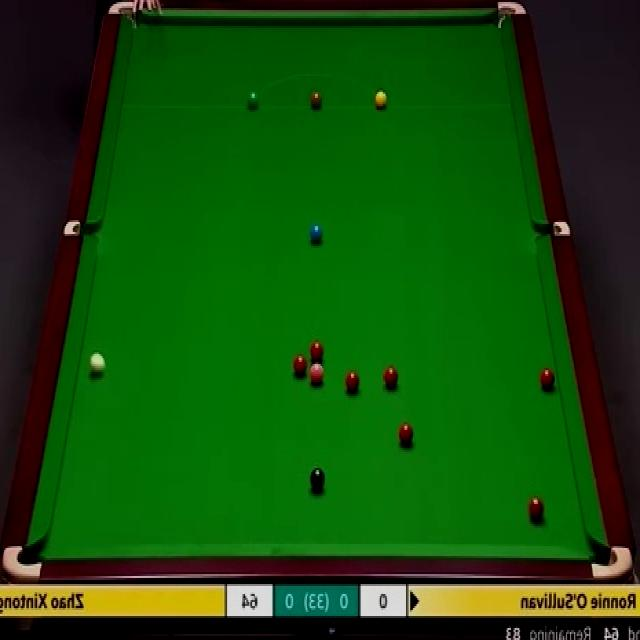black-ball: (308, 467, 324, 490)
blue-ball: (309, 222, 324, 244)
brown-ball: (309, 91, 323, 110)
green-ball: (247, 90, 260, 111)
pink-ball: (308, 362, 325, 387)
red-ball: (526, 496, 546, 522), (344, 370, 361, 394), (398, 421, 414, 446), (292, 354, 308, 378), (538, 368, 555, 390), (384, 366, 398, 390), (309, 340, 324, 361)
white-ball: (88, 351, 106, 375)
yellow-ball: (374, 88, 388, 109)
